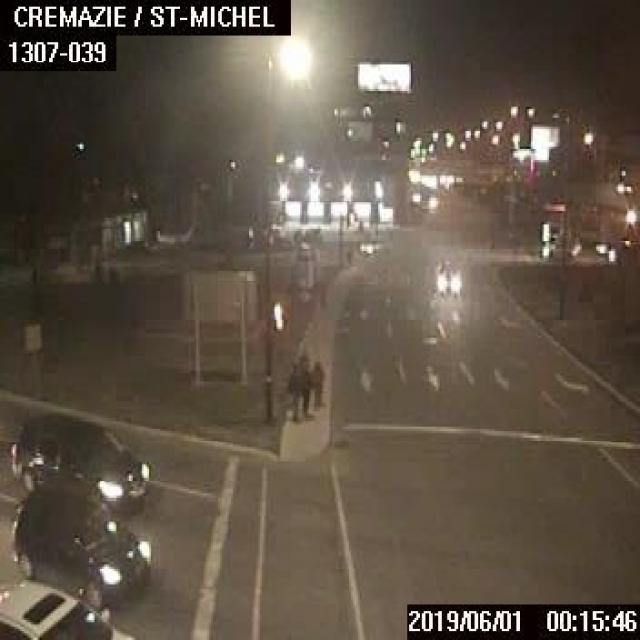pedestrian: (286, 359, 301, 421), (300, 360, 312, 416), (311, 358, 324, 408)
vehicle: (11, 478, 150, 609), (9, 414, 149, 521), (0, 578, 135, 638), (434, 260, 462, 293), (539, 240, 574, 257)
